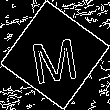M_N: (28, 26, 82, 84)
